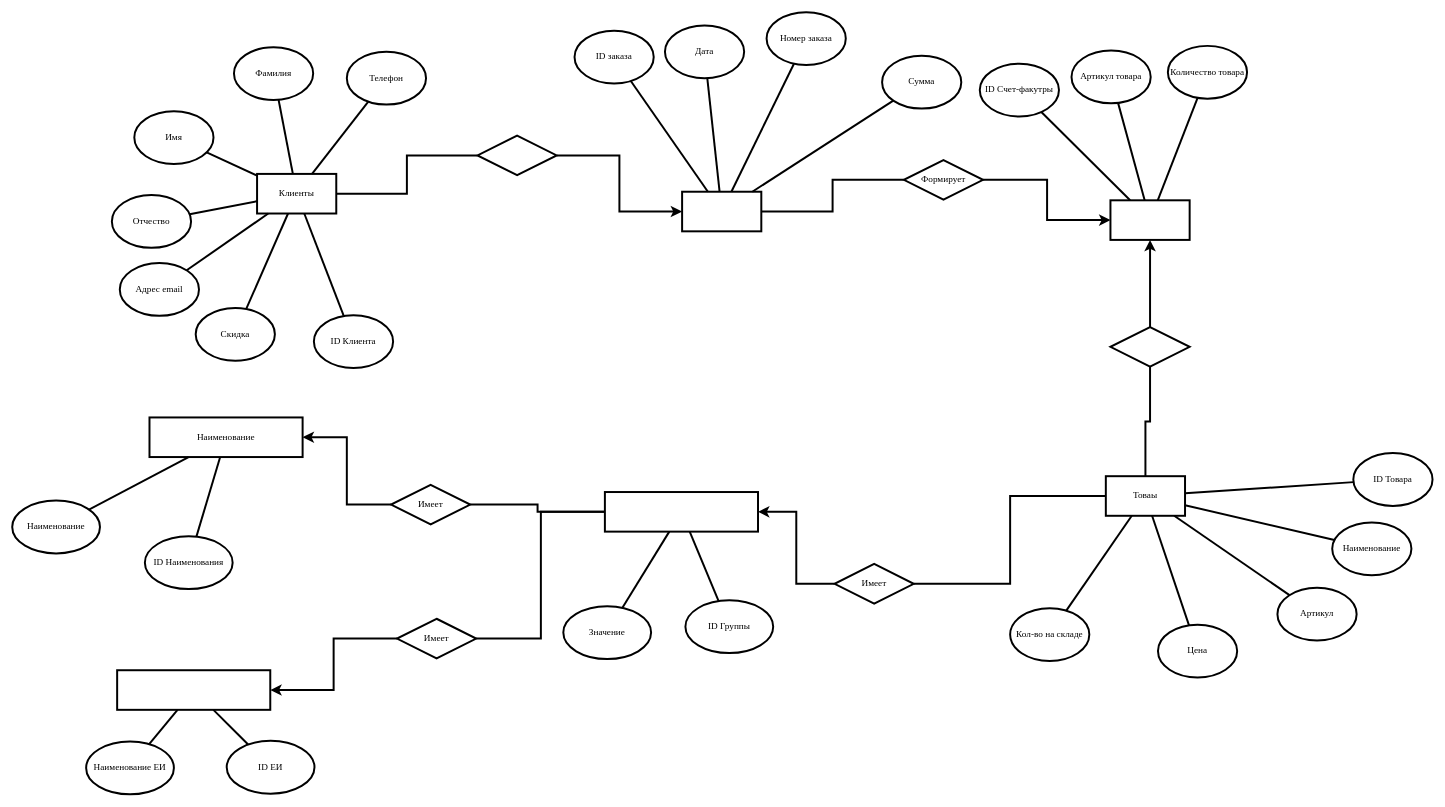
The diagram is 1445 pixels wide and 807 high, and some of its shapes have lost their labels. Each missing label, with the centre of its shape:
"Еденицы измерения" goes at point 193,689.
"Заказы" goes at point 721,211.
"Заказывает" goes at point 516,155.
"Отгружен по" goes at point 1149,346.
"Счет-фактура" goes at point 1149,220.
"Техничесмкие характеристики" goes at point 681,511.
